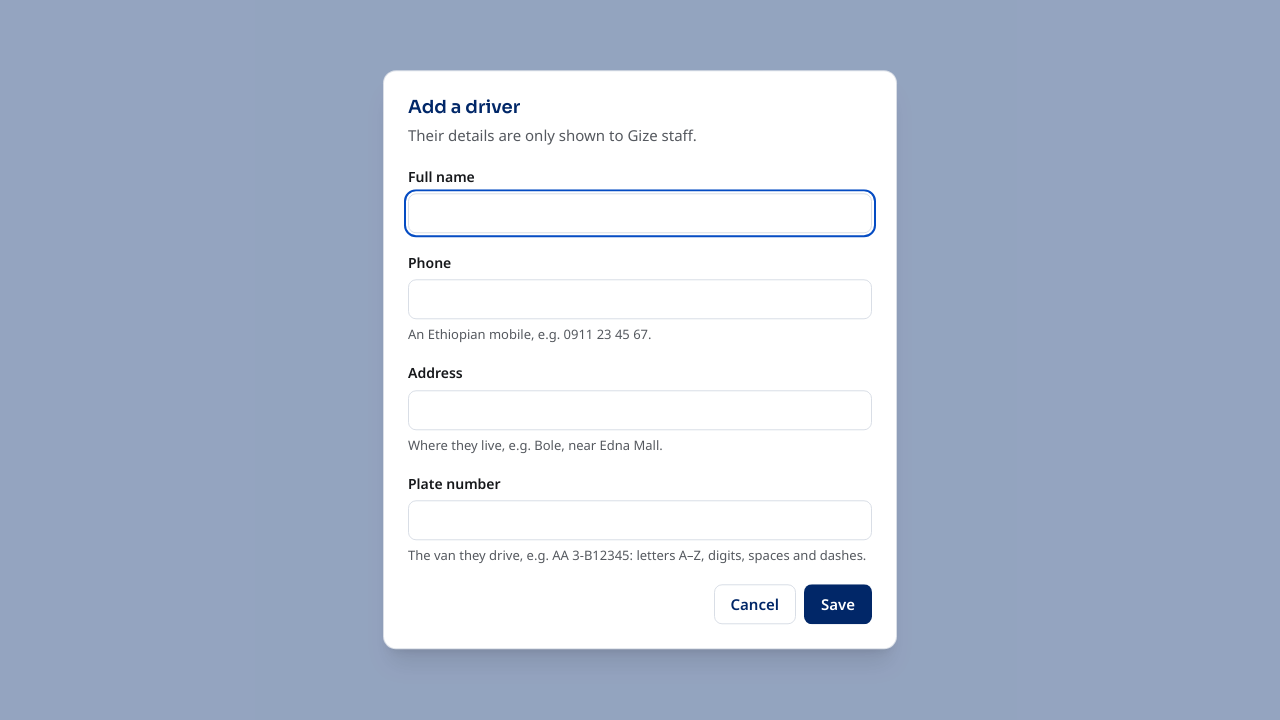
Test: DriverFormDialog: adding › checks every field before sending and focuses the first problem
Type "12345" into the field labelled "Phone" at (640, 300), box top-left (408, 280), bottom-right (872, 320)
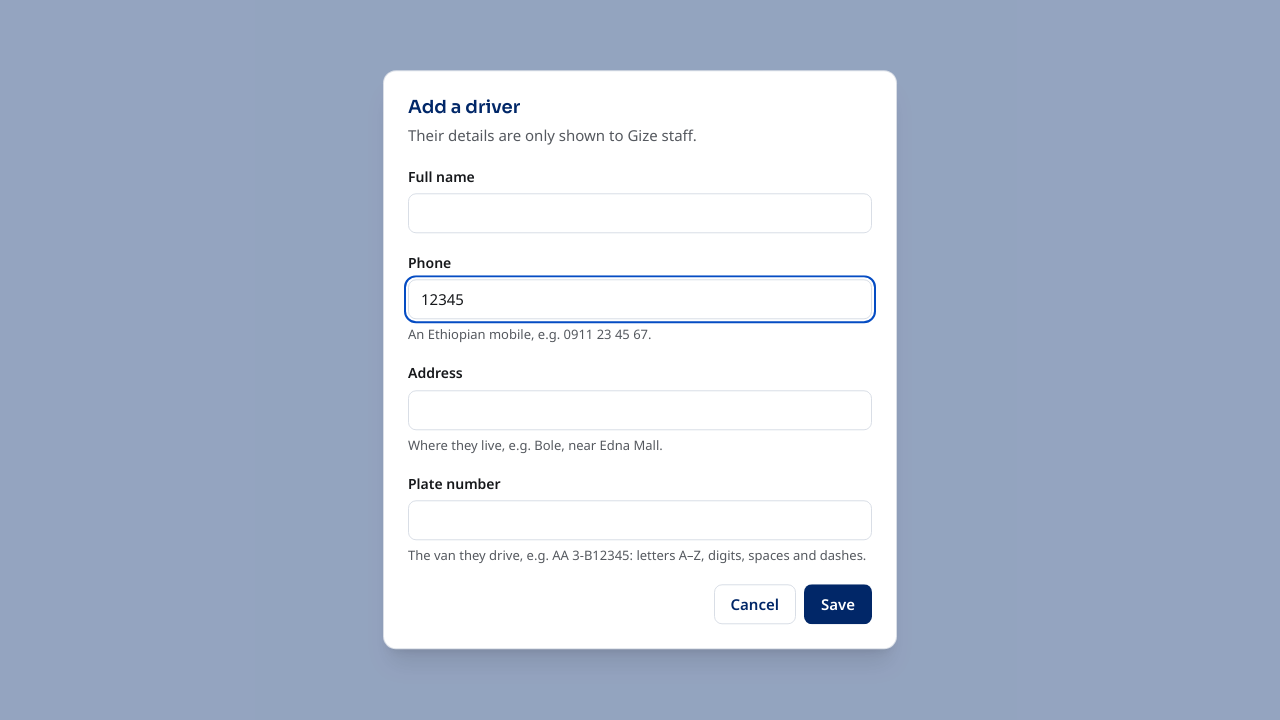
Type "A" into the field labelled "Plate number" at (640, 520), box top-left (408, 500), bottom-right (872, 540)
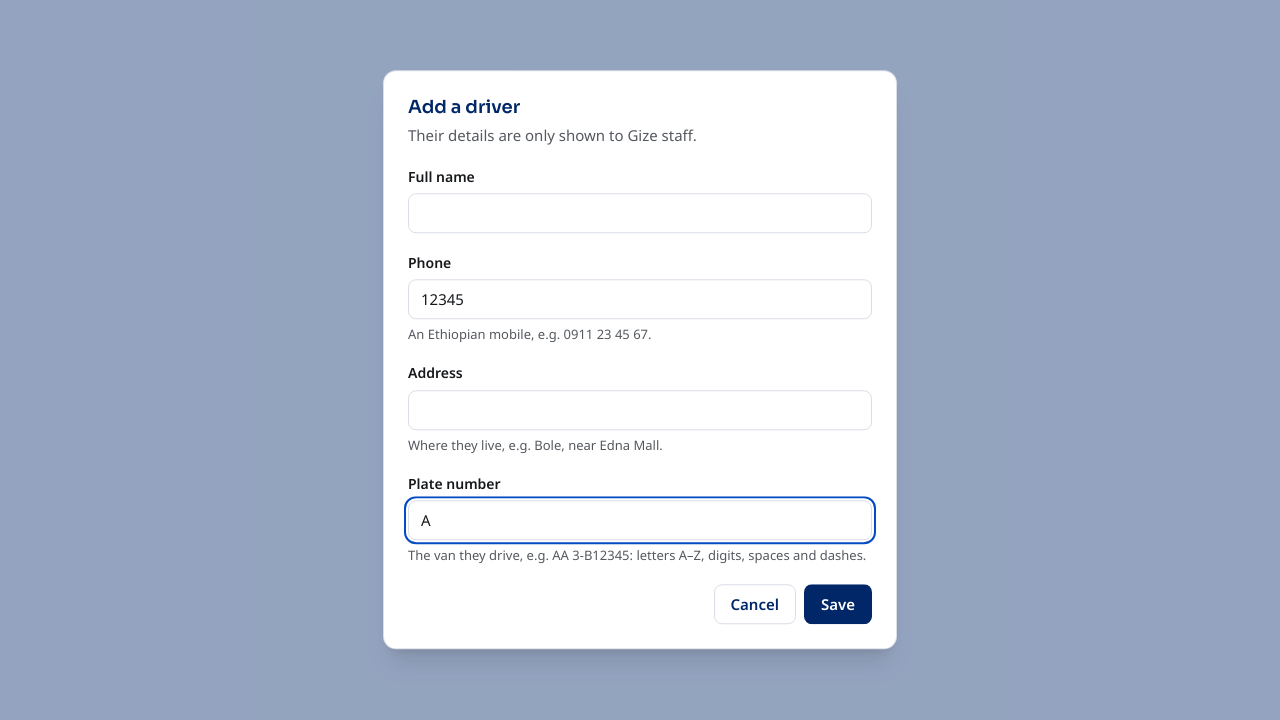
Click the button "Save" at (838, 605), box top-left (804, 585), bottom-right (872, 625)
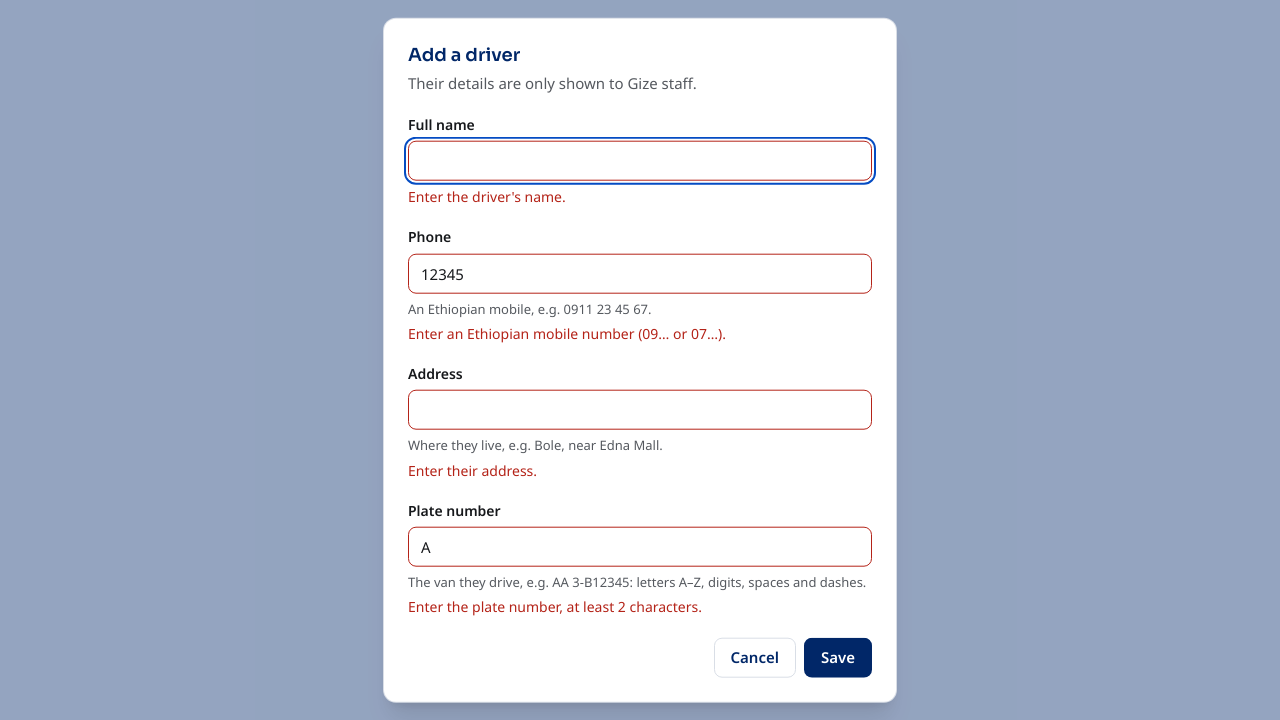
expect the text "Enter the driver's name." is shown: met, box top-left (408, 187), bottom-right (566, 206)
expect the text "Enter an Ethiopian mobile number (09… or 07…)." is shown: met, box top-left (408, 324), bottom-right (726, 342)
expect the text "Enter their address." is shown: met, box top-left (408, 460), bottom-right (537, 479)
